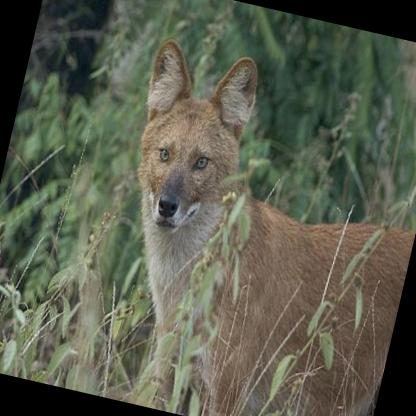dhole: (79, 35, 416, 416)
